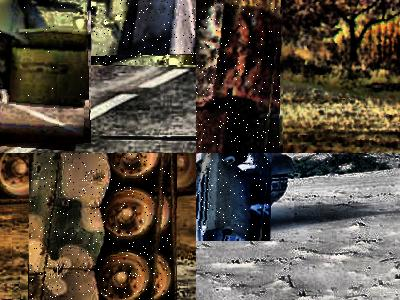tanks: (31, 154, 166, 300), (197, 1, 280, 154), (1, 1, 88, 108), (197, 154, 270, 241), (92, 1, 178, 65)
